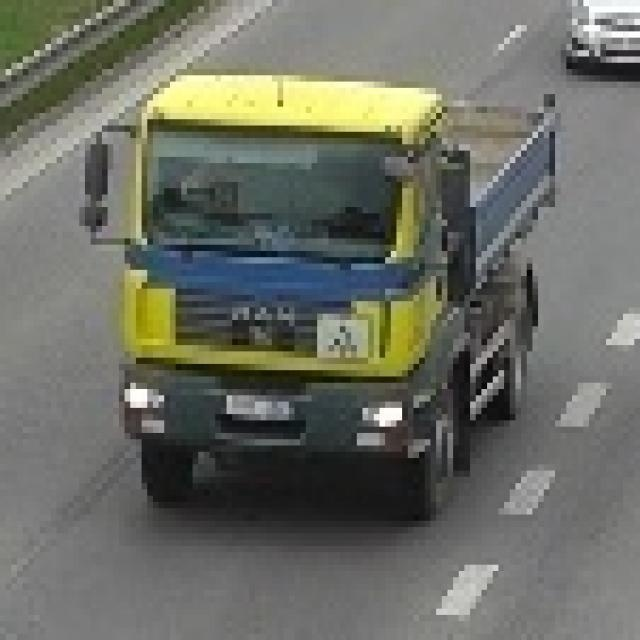Car: (568, 0, 640, 80)
Truck: (79, 57, 555, 514)
